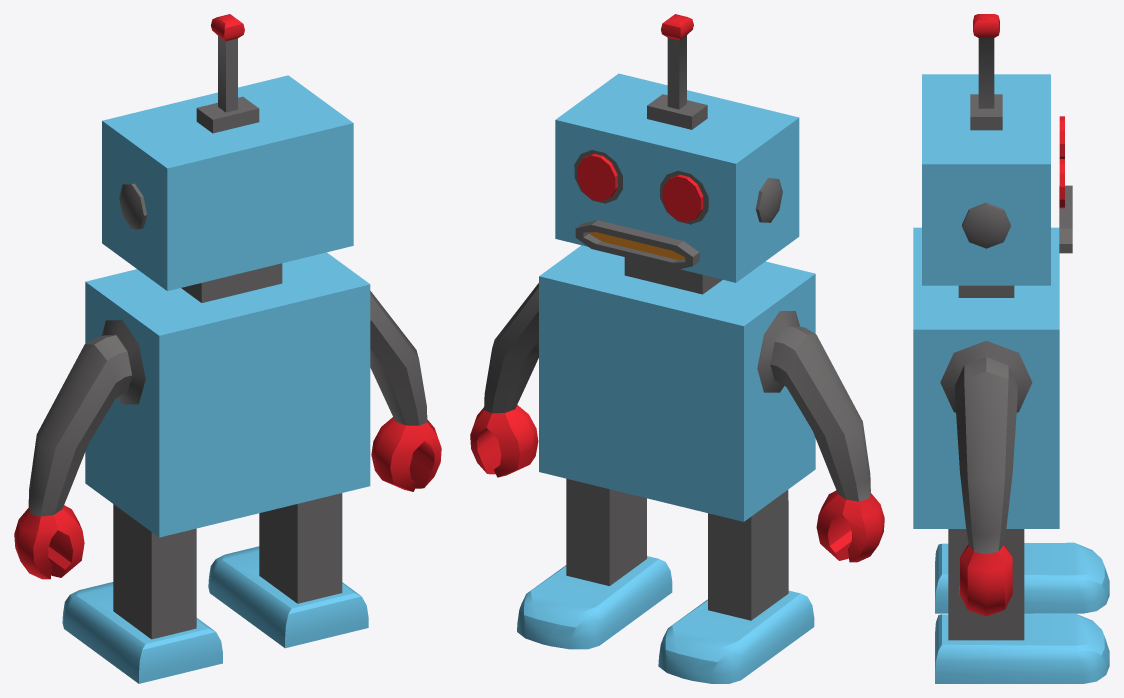
Rendered from ROBOT.fbx.
3 renders of one model, left to right at view 1: azimuth 30°, elevation 25°; view 2: azimuth 150°, elevation 25°; view 3: azimuth 270°, elevation 25°, orthographic. The views are drawn at different scales.
Parts seen in each view (by area): view 1: Cube.001; view 2: Cube.001; view 3: Cube.001.
Boxes of the visible parts, box(x1,y1,x2,y2) form: Cube.001: box(14, 14, 441, 683); Cube.001: box(470, 14, 884, 683); Cube.001: box(913, 14, 1109, 683).
Size of the model in its own units: 2.79 by 3.92 by 1.14.
